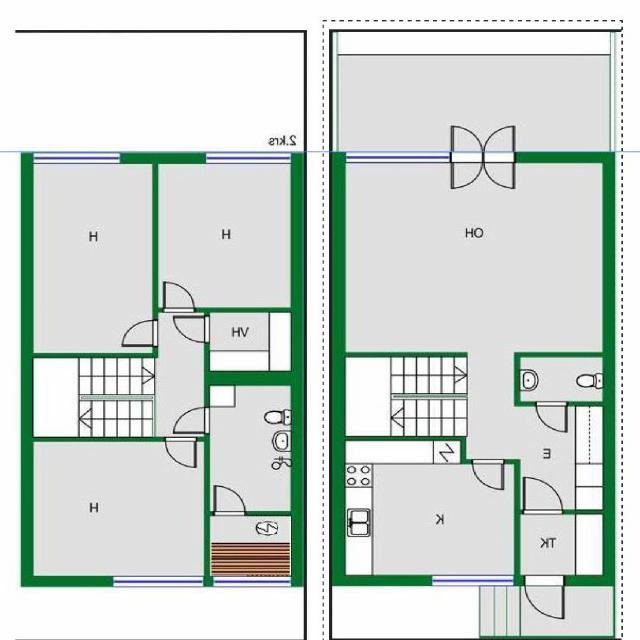door: (525, 576, 563, 618), (524, 477, 563, 513), (451, 125, 482, 163), (451, 152, 482, 189), (483, 152, 514, 189), (483, 126, 514, 162), (174, 316, 211, 343), (163, 282, 194, 313), (123, 320, 159, 346), (166, 437, 196, 467), (473, 459, 503, 488), (537, 402, 567, 431), (214, 486, 243, 516), (175, 408, 211, 432)
